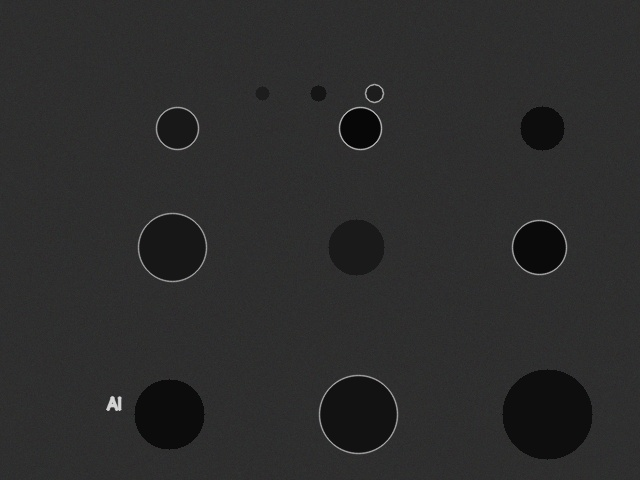hole: (502, 369, 592, 459), (319, 375, 397, 453), (134, 379, 204, 449), (138, 213, 206, 281), (328, 219, 384, 275), (512, 220, 566, 274), (520, 106, 564, 150), (156, 107, 198, 149), (339, 107, 381, 149), (365, 84, 383, 102), (310, 85, 326, 101), (255, 86, 269, 100)
